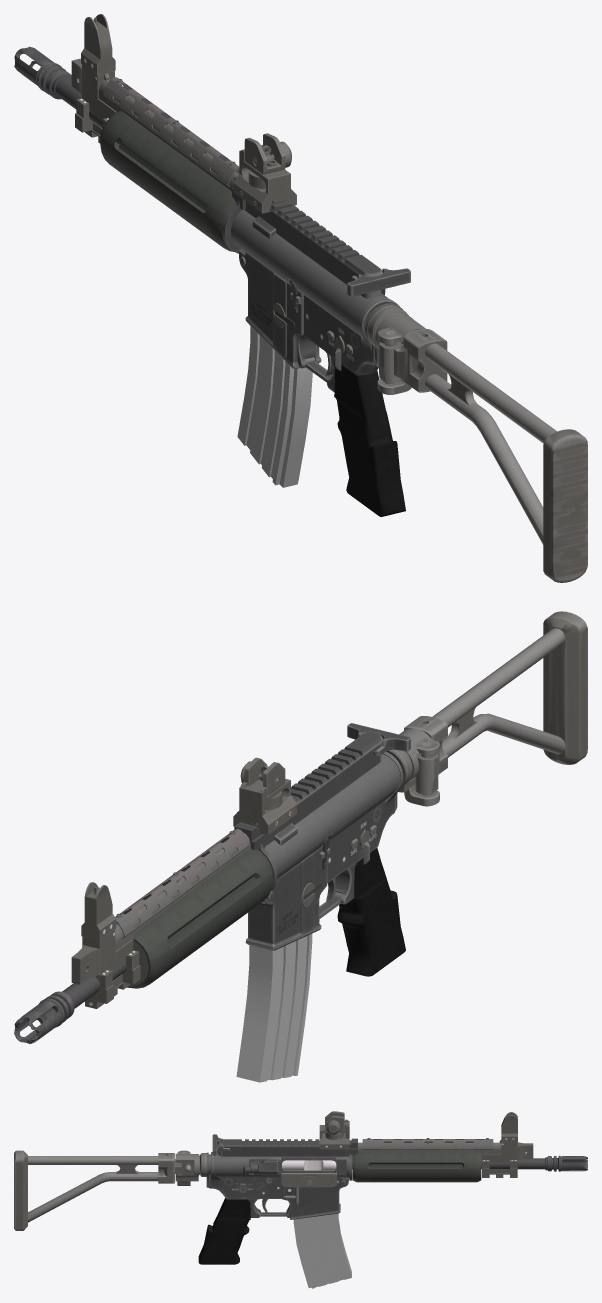
Rendered from rifle.glb.
The picture shows the model from 3 angles, top to bottom: view 1: azimuth 30°, elevation 25°; view 2: azimuth 150°, elevation 25°; view 3: azimuth 270°, elevation 25°; orthographic projection. The views are drawn at different scales.
Visible parts, largest first — view 1: Stock_low, Magazine_low, Handguard_low, Grip_low, Lower_low, Stock_Tubes_low, Upper_low, Upper_Pickatiny_low, Heat_Shield_low, Handguard_Front_Sight_low, Stock_Mount_low, Barrel_low (+5 smaller); view 2: Magazine_low, Handguard_low, Stock_low, Lower_low, Grip_low, Upper_low, Stock_Tubes_low, Upper_Pickatiny_low, Handguard_Front_Sight_low, Heat_Shield_low, Barrel_low, Rear_Sights_low2 (+6 smaller); view 3: Handguard_low, Magazine_low, Lower_low, Stock_Tubes_low, Grip_low, Upper_low, Upper_Pickatiny_low, Stock_low, Heat_Shield_low, Handguard_Front_Sight_low, Barrel_low, Stock_Mount_low (+7 smaller).
Boxes of the visible parts, <box> form: Stock_low: <box>379,329,587,582</box>; Magazine_low: <box>237,326,312,487</box>; Handguard_low: <box>100,111,235,251</box>; Grip_low: <box>334,364,405,516</box>; Lower_low: <box>238,249,399,375</box>; Stock_Tubes_low: <box>425,343,556,544</box>; Upper_low: <box>231,210,388,335</box>; Upper_Pickatiny_low: <box>222,176,382,298</box>; Heat_Shield_low: <box>103,77,239,186</box>; Handguard_Front_Sight_low: <box>71,14,116,118</box>; Stock_Mount_low: <box>365,303,425,394</box>; Barrel_low: <box>14,46,102,128</box>; Magazine_low: <box>236,934,312,1082</box>; Handguard_low: <box>127,848,273,988</box>; Stock_low: <box>404,611,587,794</box>; Lower_low: <box>245,751,403,950</box>; Grip_low: <box>337,848,405,976</box>; Upper_low: <box>264,754,400,878</box>; Stock_Tubes_low: <box>432,628,565,757</box>; Upper_Pickatiny_low: <box>234,731,383,890</box>; Handguard_Front_Sight_low: <box>71,882,133,984</box>; Heat_Shield_low: <box>115,828,249,938</box>; Barrel_low: <box>14,962,126,1044</box>; Rear_Sights_low2: <box>233,778,296,834</box>; Handguard_low: <box>352,1152,481,1182</box>; Magazine_low: <box>293,1213,351,1288</box>; Lower_low: <box>208,1152,349,1219</box>; Stock_Tubes_low: <box>28,1156,158,1222</box>; Grip_low: <box>198,1198,250,1264</box>; Upper_low: <box>208,1153,349,1177</box>; Upper_Pickatiny_low: <box>217,1138,357,1180</box>; Stock_low: <box>14,1150,181,1230</box>; Heat_Shield_low: <box>362,1139,493,1149</box>; Handguard_Front_Sight_low: <box>482,1112,533,1162</box>; Barrel_low: <box>352,1155,587,1171</box>; Stock_Mount_low: <box>175,1150,208,1187</box>.
Size of the model in its own units: 0.0724 by 0.3491 by 1.05.
2 materials, 2 textured.
